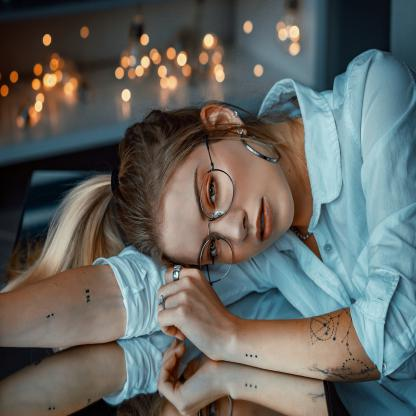Eye: (206, 172, 221, 209), (207, 238, 221, 263)
Mouth: (255, 194, 274, 244)
Nose: (210, 208, 249, 244)
